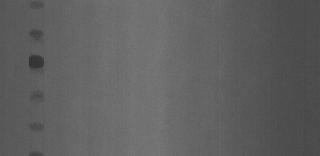oil spot: (25, 54, 49, 70), (24, 118, 48, 134), (22, 0, 48, 14), (27, 23, 47, 39), (27, 88, 45, 104), (24, 146, 44, 156)
